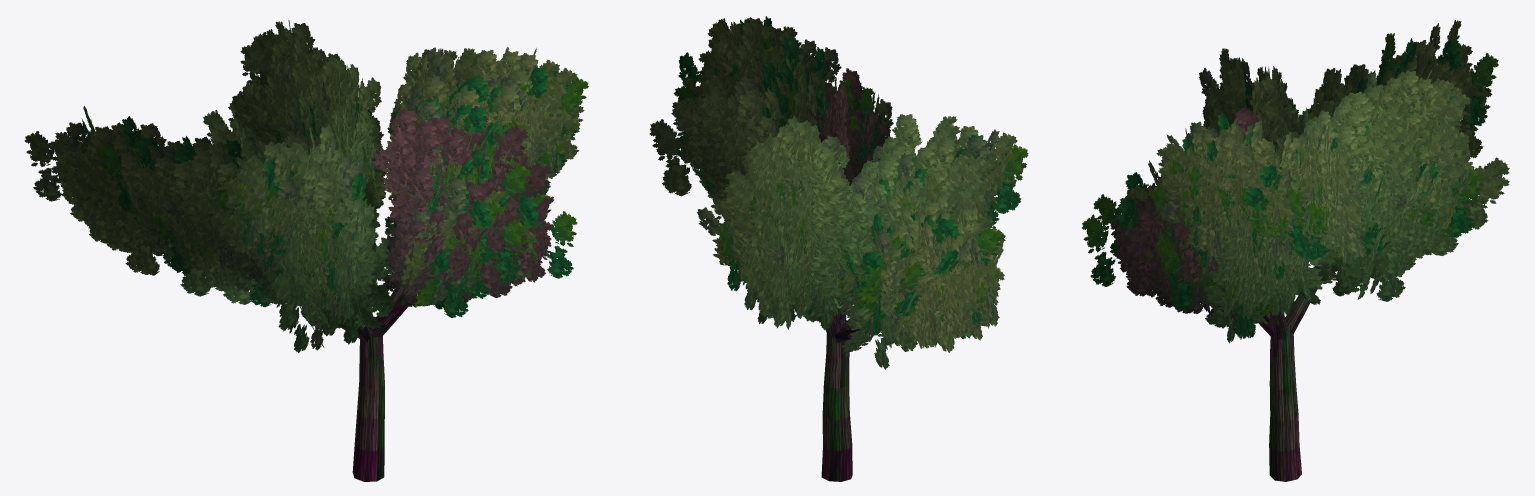
The model's file is nat_oak_a_LOD0.glb.
3 renders of one model, left to right at view 1: azimuth 30°, elevation 25°; view 2: azimuth 150°, elevation 25°; view 3: azimuth 270°, elevation 25°, orthographic.
Parts seen in each view (by area): view 1: nat_oak_a_LOD0; view 2: nat_oak_a_LOD0; view 3: nat_oak_a_LOD0.
Part boxes in pixels (x1=…): nat_oak_a_LOD0: x1=24, y1=20, x2=588, y2=481; nat_oak_a_LOD0: x1=649, y1=16, x2=1028, y2=481; nat_oak_a_LOD0: x1=1082, y1=20, x2=1509, y2=481.
Size of the model in its own units: 9.29 by 8.13 by 8.04.
2 materials, 2 textured.
